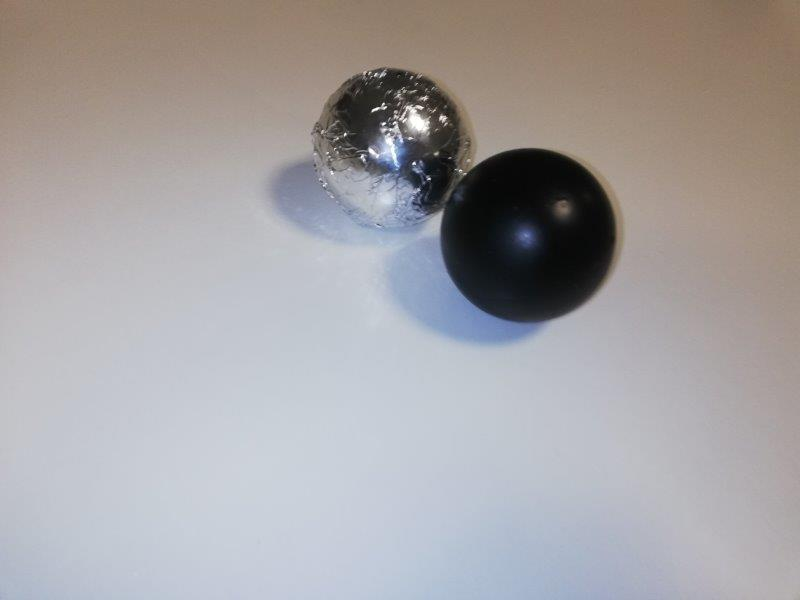bianca: (309, 65, 475, 230)
nera: (438, 148, 616, 324)
